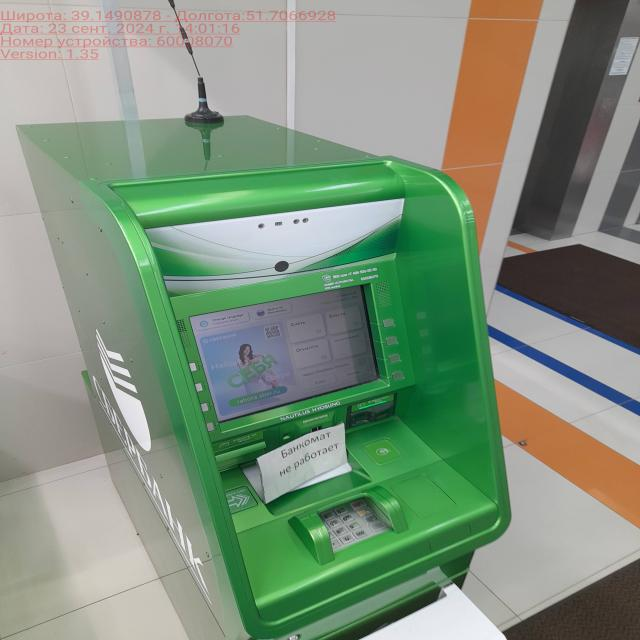bank: (17, 114, 510, 640)
